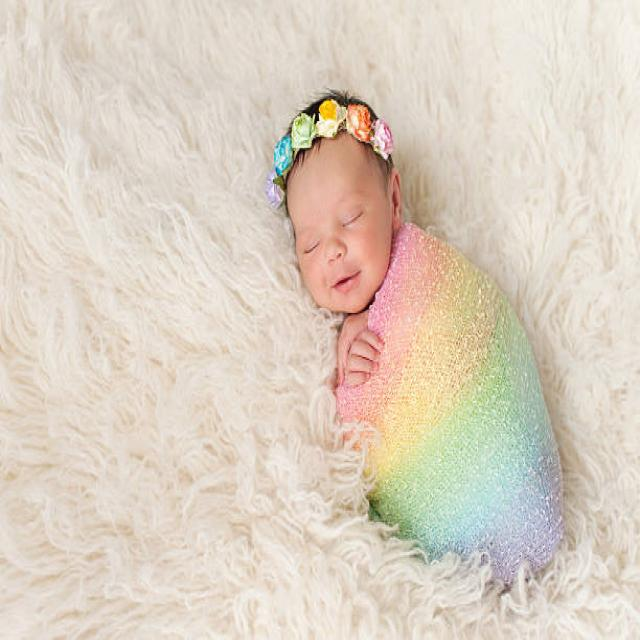blanket: (338, 224, 564, 580)
